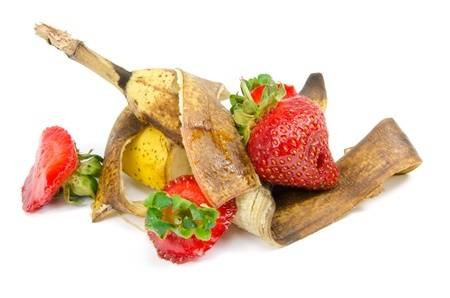kitchen_waste: (28, 20, 271, 247), (259, 111, 434, 246), (134, 163, 246, 271), (237, 88, 350, 193), (9, 122, 91, 229)
